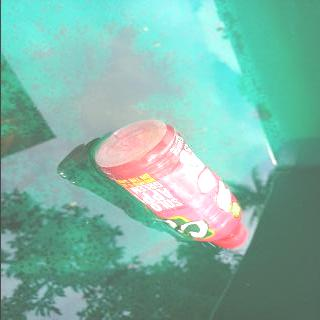bottle: (90, 116, 252, 252)
